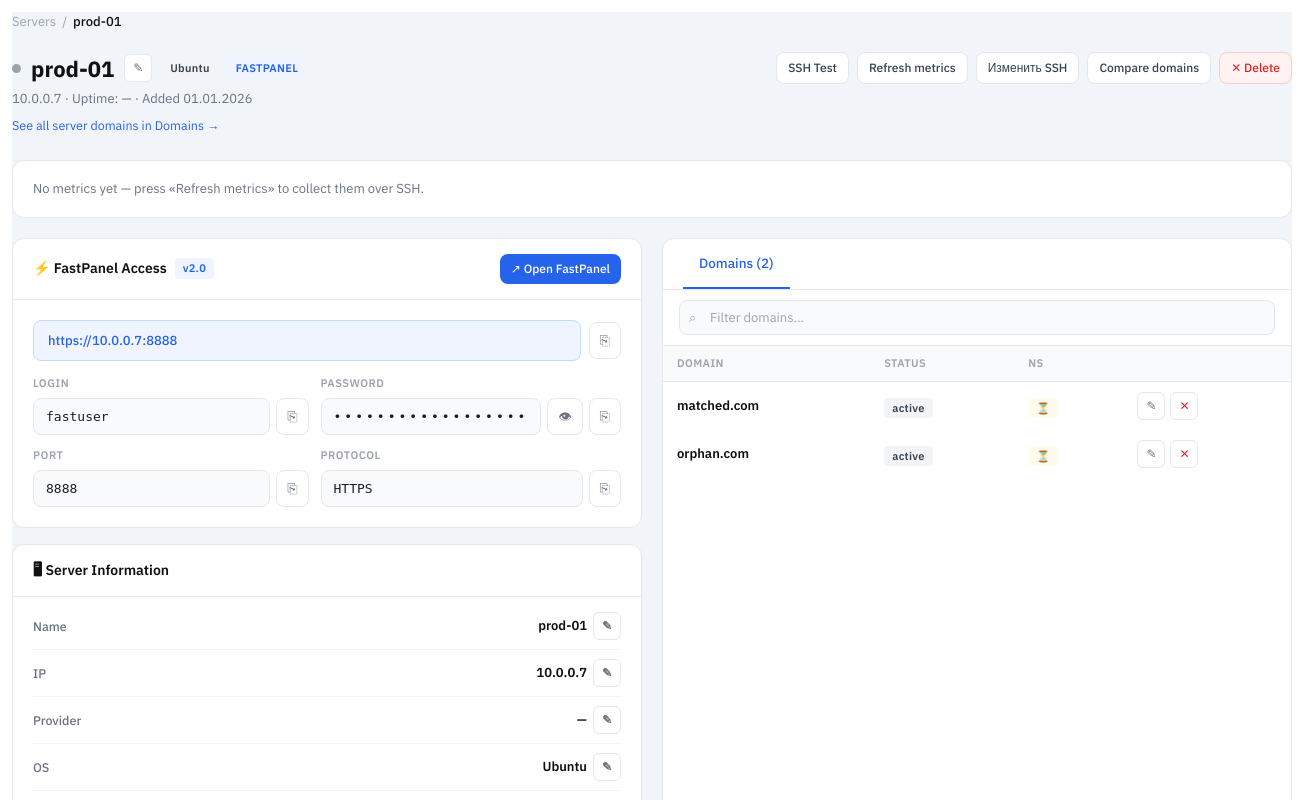
ServerDetail — сверка сайтов и привязка по факту › раскладывает сайты на четыре группы и не считает чужих сирот пропавшими
Click the button "Compare domains" at (1149,68), box [1087, 52, 1211, 84]
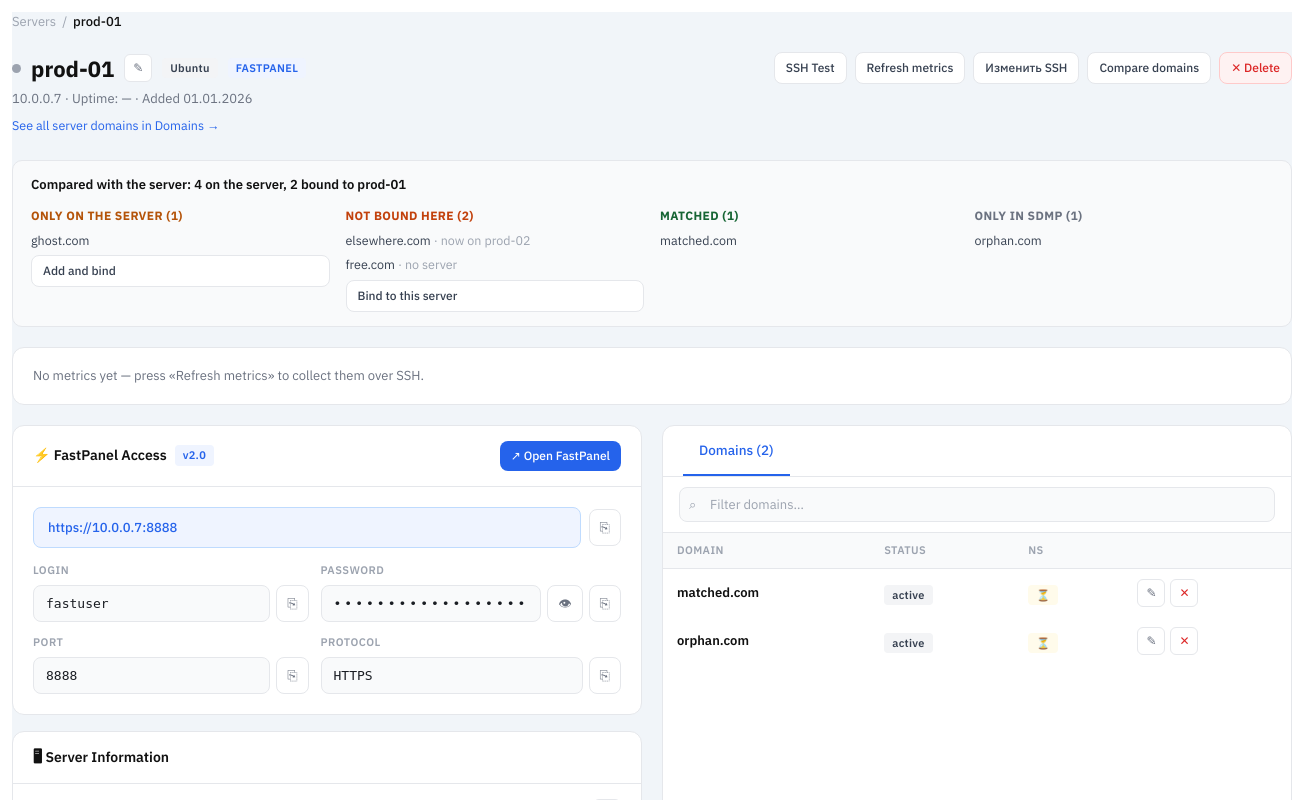
Expected: the text "Compared with the server" is shown, [31, 176, 194, 193]
Expected: the text "Only on the server (1)" is shown, [31, 208, 183, 222]
Expected: the text "Not bound here (2)" is shown, [346, 208, 474, 222]
